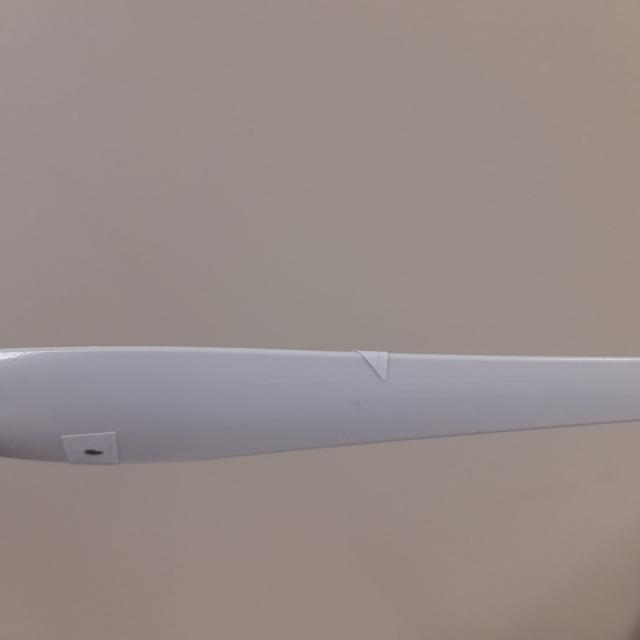dano: (76, 443, 112, 463)
